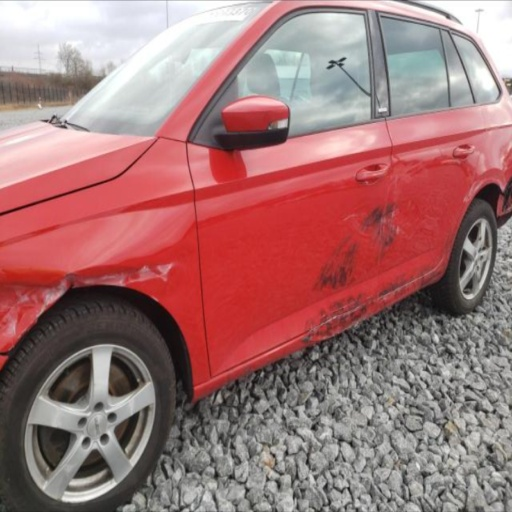dent: (0, 240, 196, 351), (295, 274, 425, 342)
scratch: (19, 264, 173, 341), (298, 263, 439, 346), (314, 200, 402, 291), (0, 283, 49, 337), (151, 296, 158, 302)
